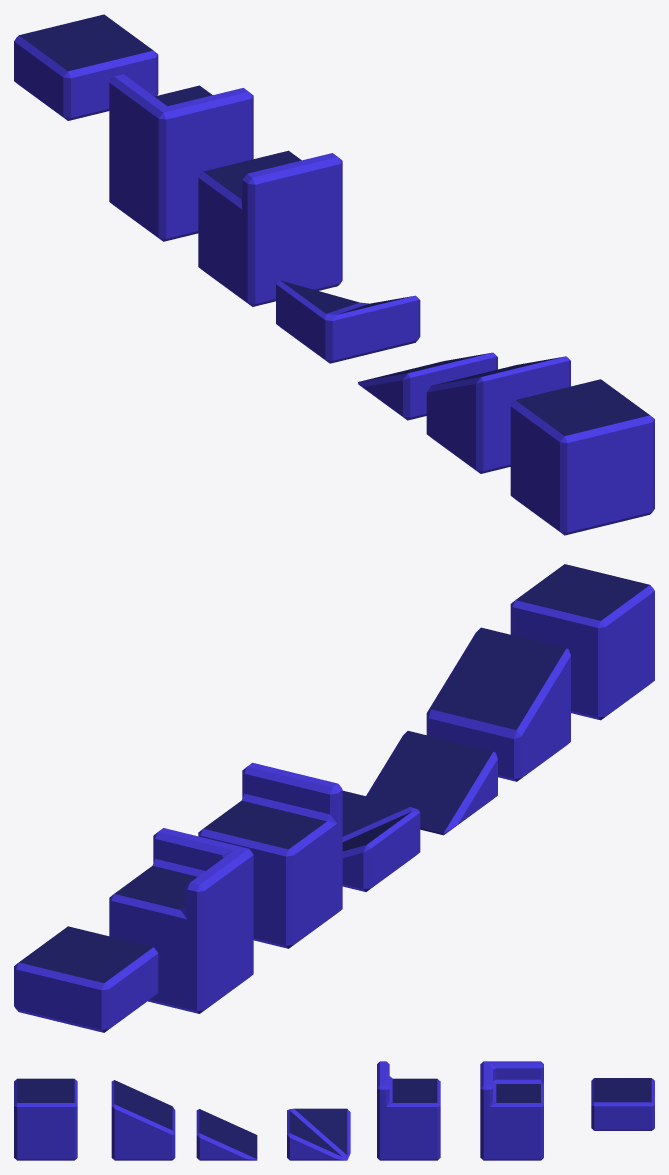
The model's file is blocks.glb.
3 views of the same model, one above another, from view 1: azimuth 30°, elevation 25°; view 2: azimuth 150°, elevation 25°; view 3: azimuth 270°, elevation 25° (orthographic). The views are drawn at different scales.
Parts seen in each view (by area): view 1: BlockBorder, Block, BlockBorderCorner, Block.001, Ramp, RampAngle, RampBottom; view 2: BlockBorderCorner, BlockBorder, Ramp, Block, Block.001, RampBottom, RampAngle; view 3: BlockBorderCorner, BlockBorder, Block, Ramp, Block.001, RampAngle, RampBottom.
Part boxes in pixels (box(x1,y1,x2,y2)): BlockBorder: box(198, 150, 342, 306); Block: box(510, 379, 654, 535); BlockBorderCorner: box(109, 74, 253, 241); Block.001: box(14, 14, 158, 120); Ramp: box(426, 356, 570, 473); RampAngle: box(276, 280, 420, 363); RampBottom: box(358, 352, 497, 420); BlockBorderCorner: box(109, 828, 253, 1013); BlockBorder: box(198, 762, 342, 948); Ramp: box(426, 627, 570, 781); Block: box(510, 564, 654, 720); Block.001: box(14, 926, 158, 1032); RampBottom: box(366, 731, 497, 835); RampAngle: box(342, 790, 420, 891); BlockBorderCorner: box(480, 1061, 543, 1160); BlockBorder: box(377, 1061, 440, 1160); Block: box(14, 1078, 77, 1160); Ramp: box(111, 1080, 175, 1160); Block.001: box(591, 1078, 654, 1130); RampAngle: box(287, 1108, 350, 1160); RampBottom: box(196, 1109, 257, 1160).
Size of what is drawn, in the model's own units: 2 by 2.6 by 20.11.
